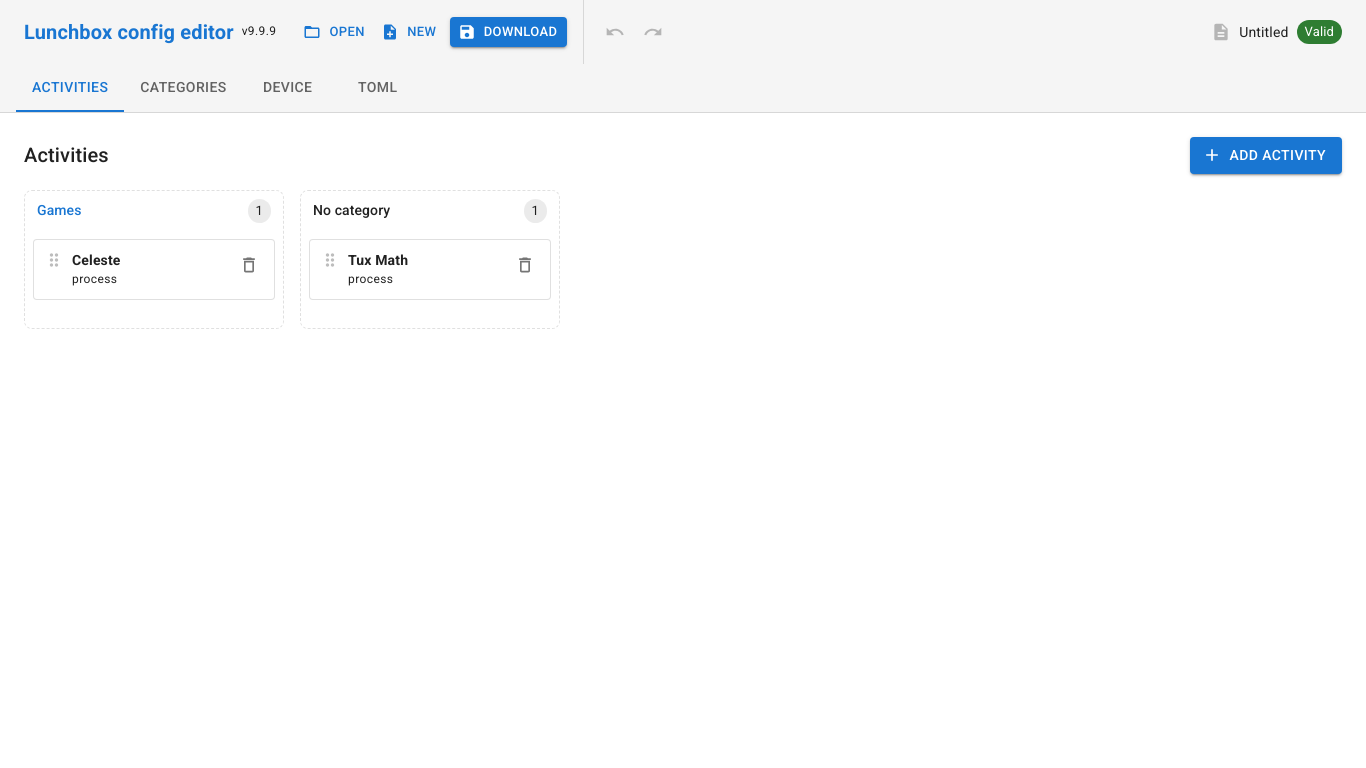
navigating between activities and categories › opens an activity from its category's member list
This screenshot has width=1366, height=768.
What coordinates should you click on to do the following:
click the tab "Categories"
I would click on:
 (184, 88)
Its box is x1=124 y1=64 x2=243 y2=112.
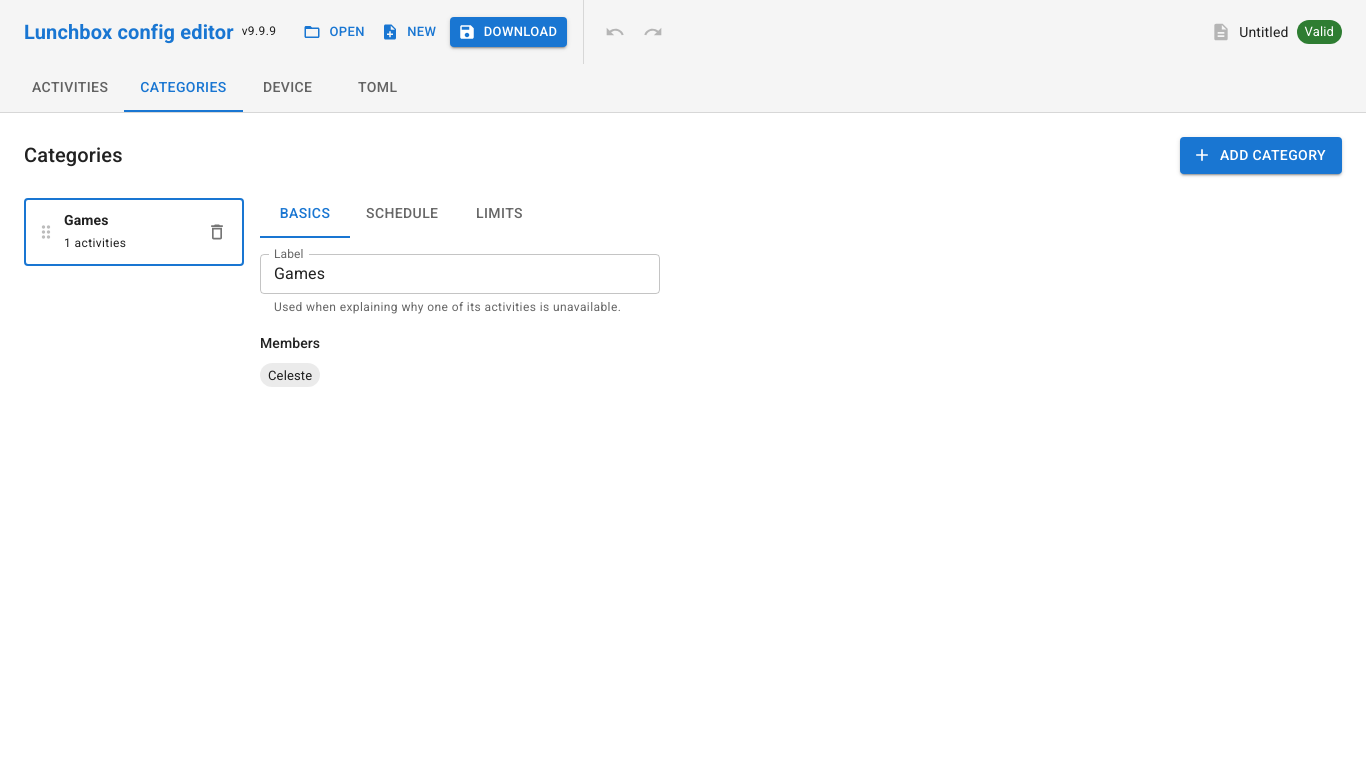
What coordinates should you click on to do the following:
click the button "Celeste"
I would click on:
 (290, 375)
Its box is x1=260 y1=363 x2=320 y2=387.
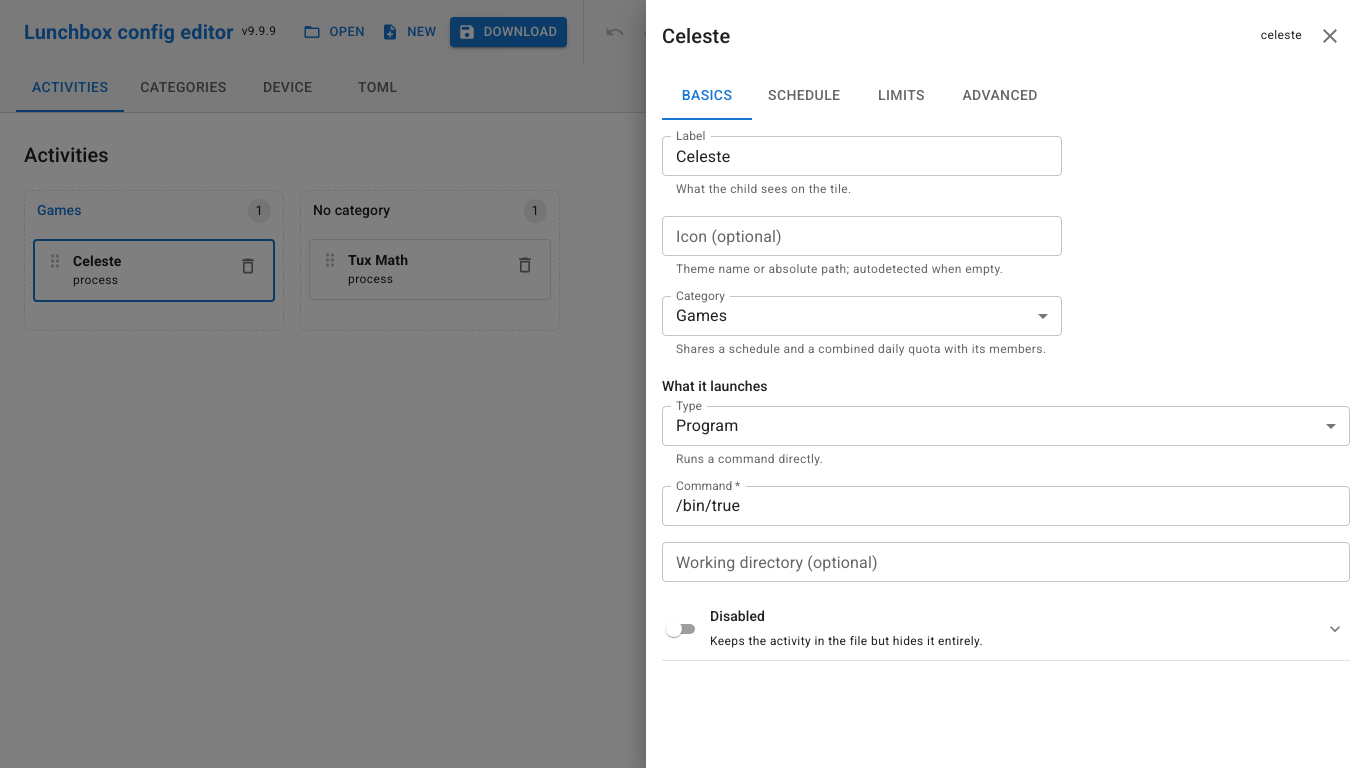
Expected: the heading "Celeste" is shown, x1=662 y1=24 x2=730 y2=48
